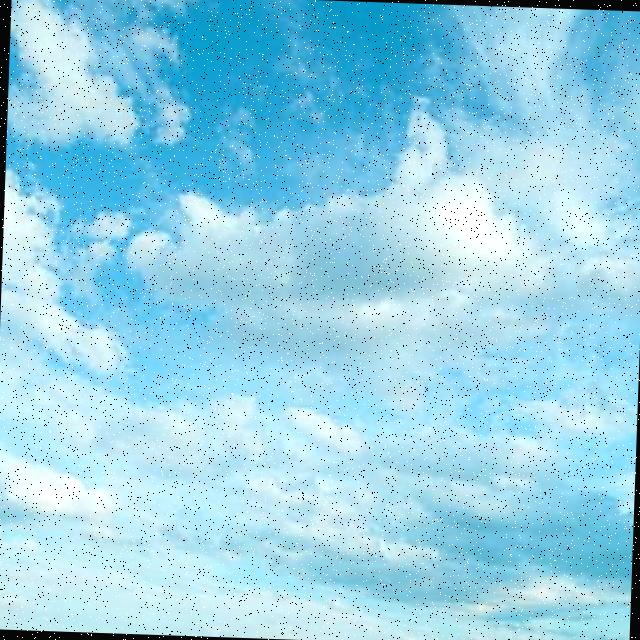Cu: (1, 7, 640, 615)
